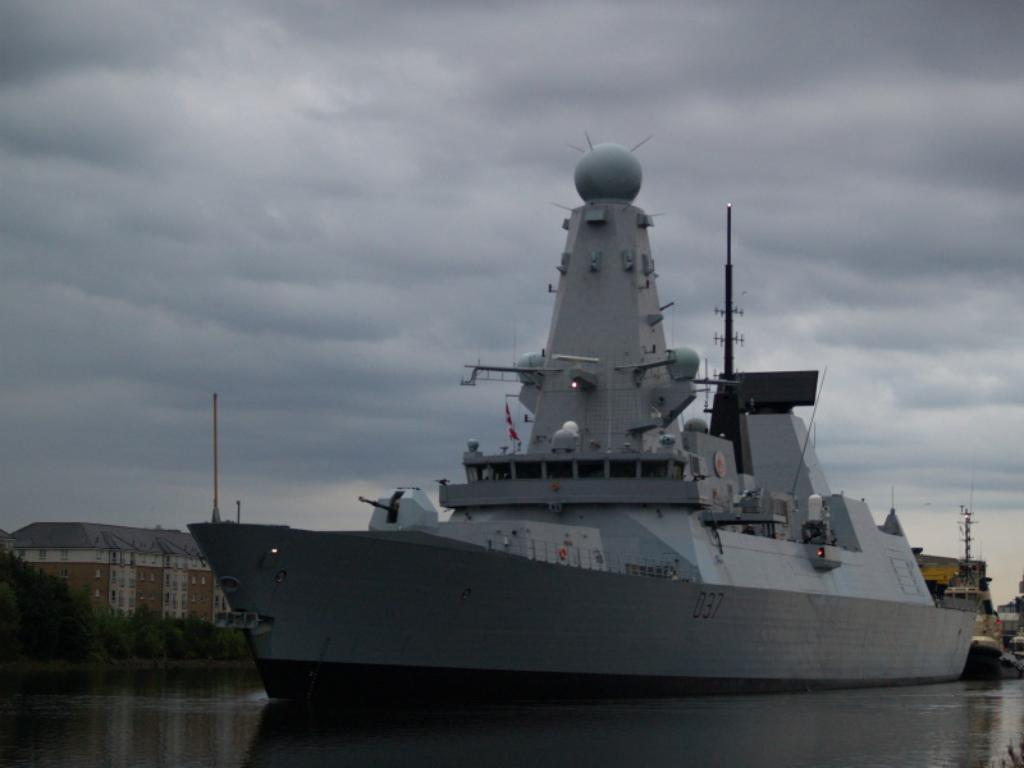Warship: (183, 125, 979, 715)
